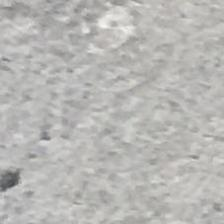Non_Crack: (24, 53, 206, 218)
